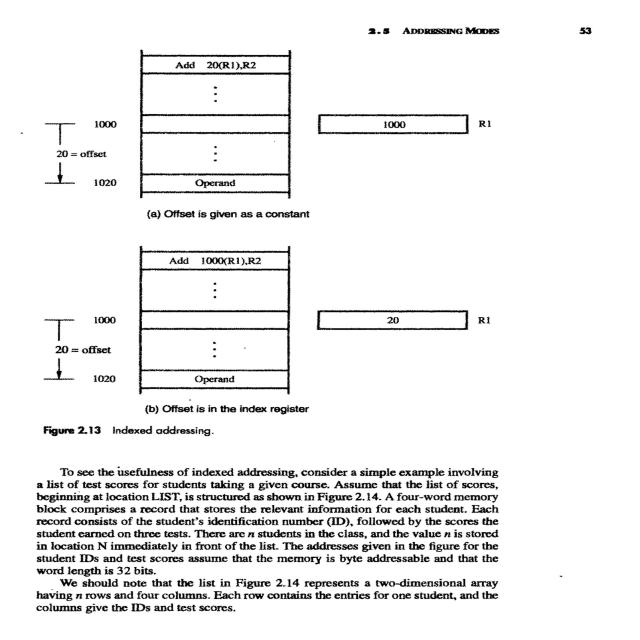diagram: (18, 40, 517, 452)
